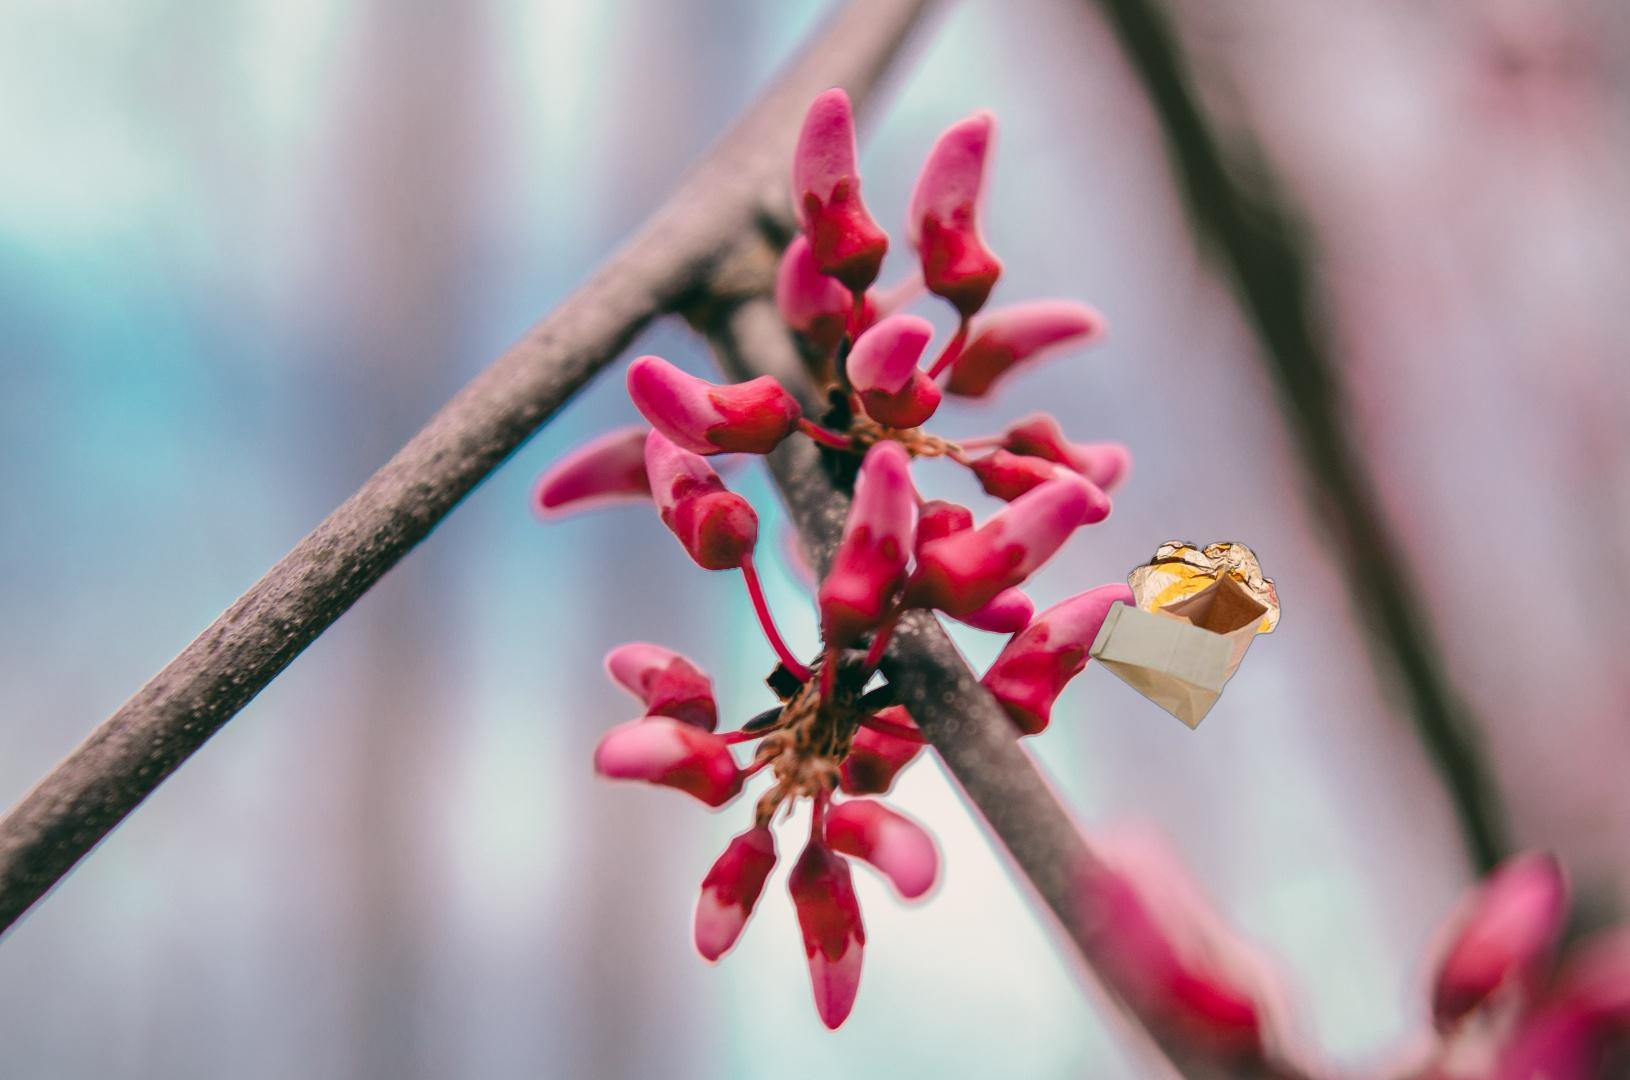paper-bag: (1085, 539, 1284, 730)
plastic-bag: (713, 1078, 920, 1080)
